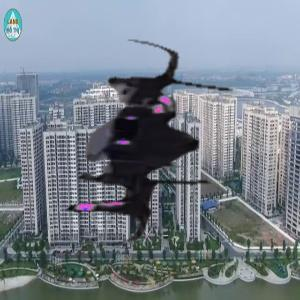drone: (27, 33, 251, 257)
